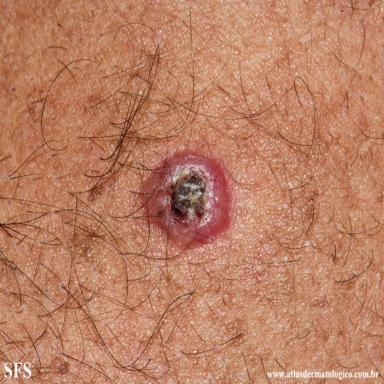basal-cell-carcinoma: (145, 153, 232, 248)
